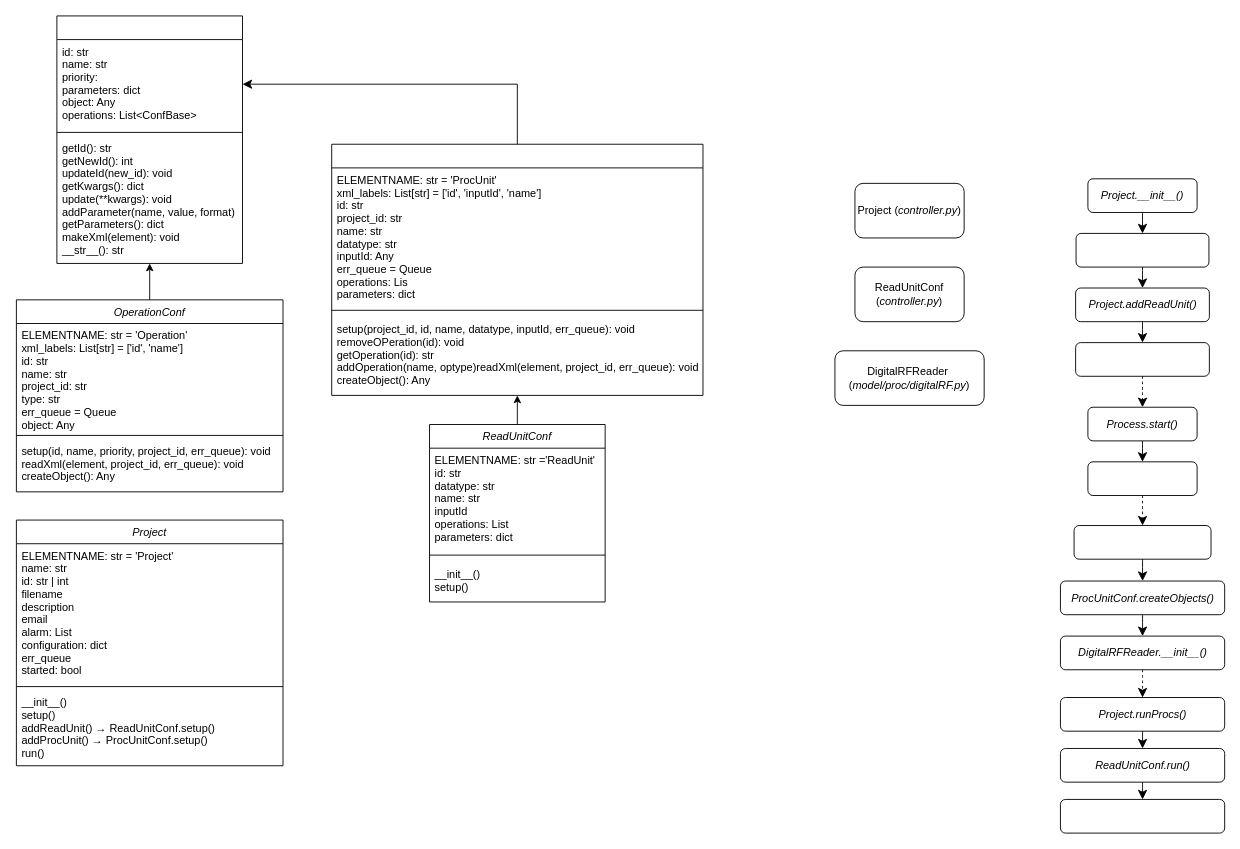
The diagram is 1240 pixels wide and 849 high, and some of its shapes have lost their labels. The box of each missing label's shape, as (x1, y1, x2, y2) in pixels:
ConfBase: (56, 15, 243, 263)
DigitalRFReader.call(): (1060, 799, 1225, 833)
ProcUnitConf: (331, 143, 703, 395)
Project.createObjects(): (1073, 525, 1211, 559)
Project.run(): (1087, 461, 1197, 495)
Project.setup(): (1075, 233, 1209, 267)
ReadUnitConf.setup(): (1075, 342, 1209, 376)
